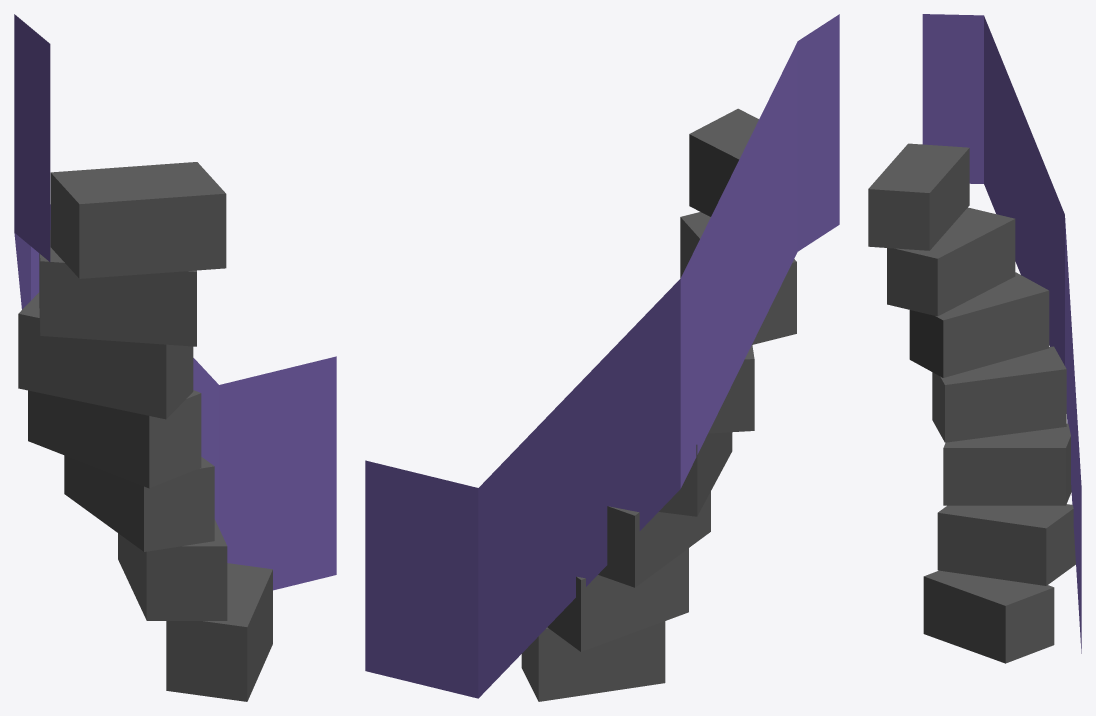
The model's file is spiral-staircase.dae.
The picture shows the model from 3 angles, left to right: view 1: azimuth 30°, elevation 25°; view 2: azimuth 150°, elevation 25°; view 3: azimuth 270°, elevation 25°; orthographic projection. The views are drawn at different scales.
Parts seen in each view (by area): view 1: Cube_002, Plane_002; view 2: Plane_002, Cube_002; view 3: Cube_002, Plane_002.
Boxes of the visible parts, x1,y1,x2,y2 form: Cube_002: [18, 162, 272, 701]; Plane_002: [14, 14, 336, 590]; Plane_002: [365, 14, 839, 698]; Cube_002: [521, 108, 796, 701]; Cube_002: [868, 143, 1075, 663]; Plane_002: [922, 14, 1081, 653].
Size of the model in its own units: 1.19 by 0.7336 by 2.07.
